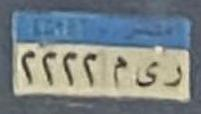2: (39, 48, 59, 88), (19, 48, 39, 86), (61, 49, 79, 88), (81, 49, 98, 88)
meem: (109, 52, 128, 89)
raa: (163, 62, 183, 91)
yaa: (134, 58, 160, 92)
